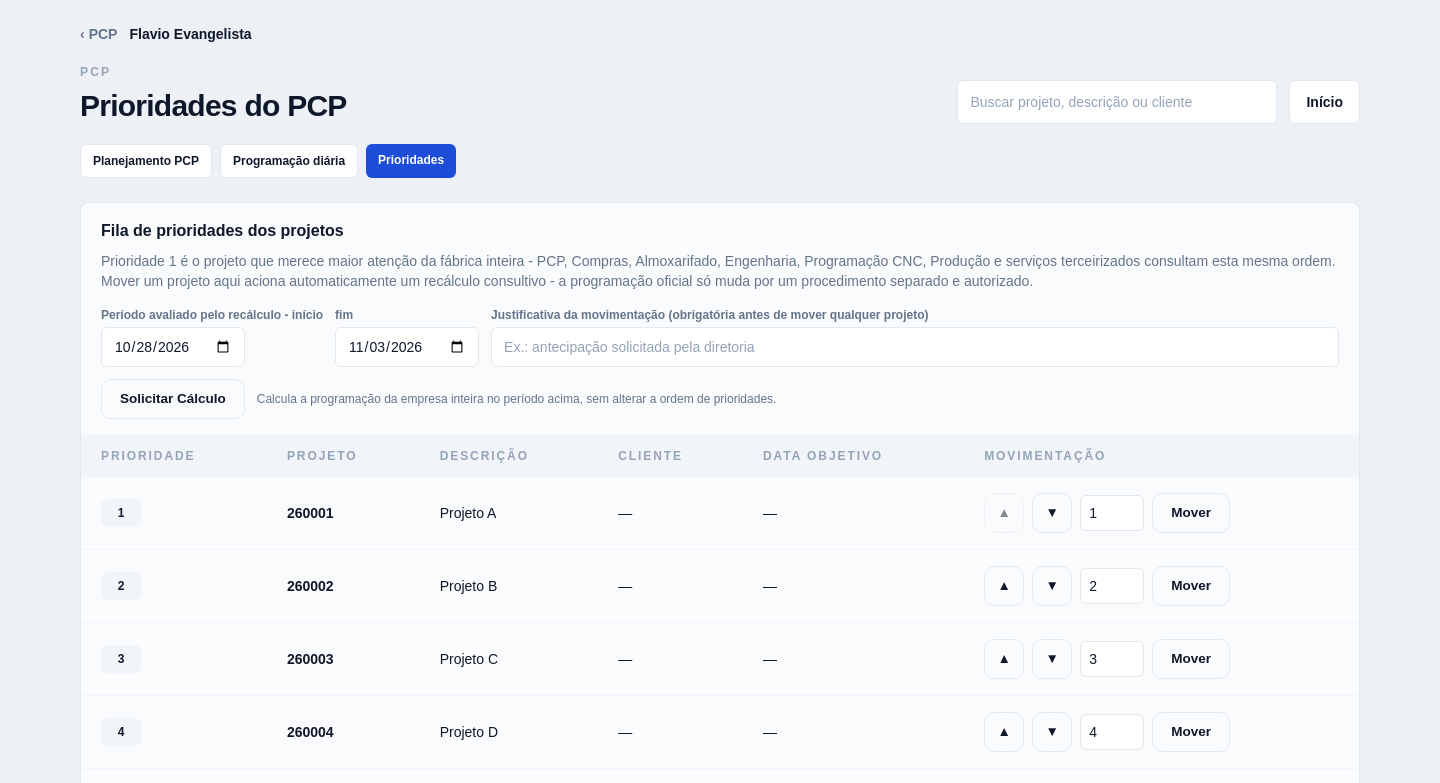
Test: PrioridadesPcpPage - componente › movimento com sucesso mas liberação da reserva falhou: nunca aparenta término normal, avisa bloqueio de novas movimentações
Type "justificativa de teste" into the field labelled "Justificativa da movimentação". click: (915, 347)
box: [491,327,1339,367]
(page scrolled)
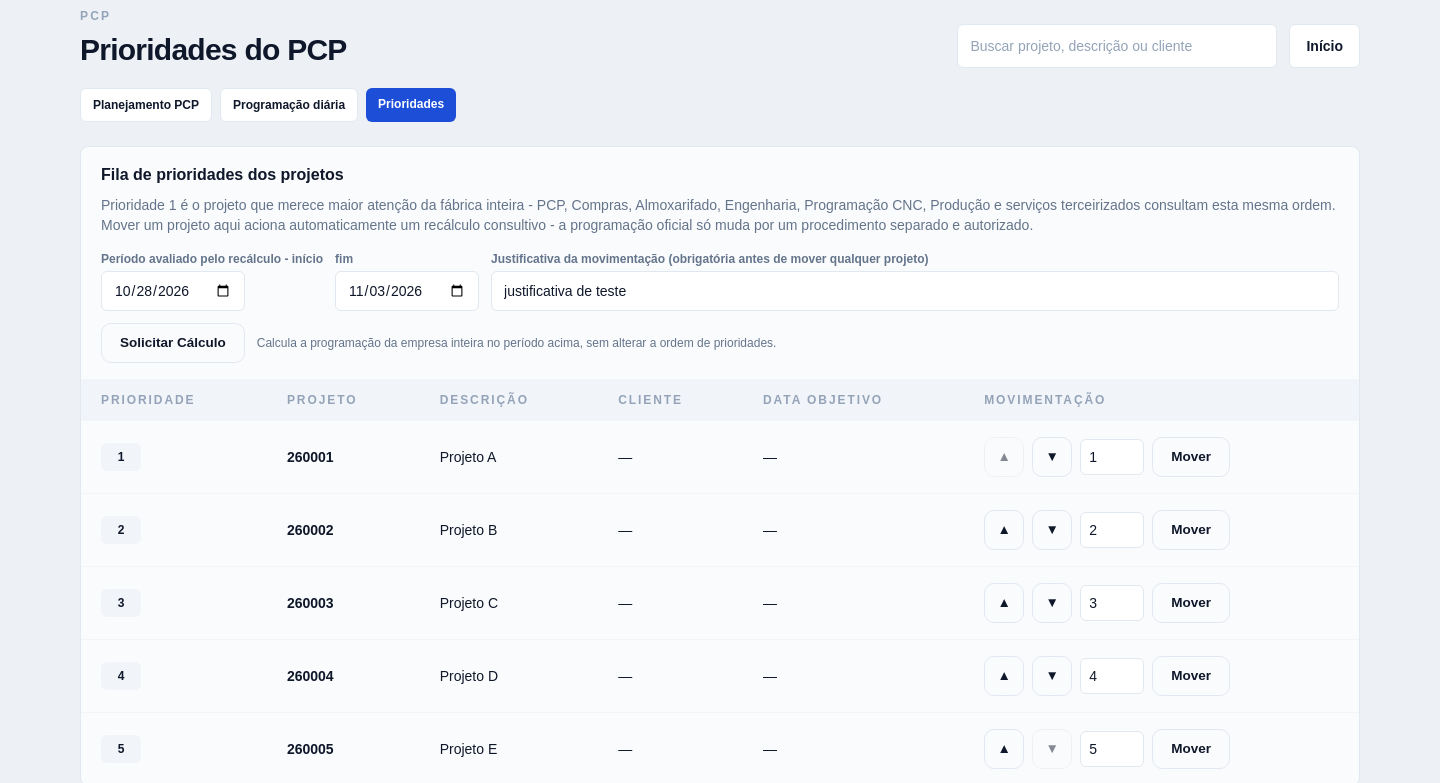
Click the button named "Subir prioridade do projeto 260005". click: click(1004, 749)
box: [984,729,1024,769]
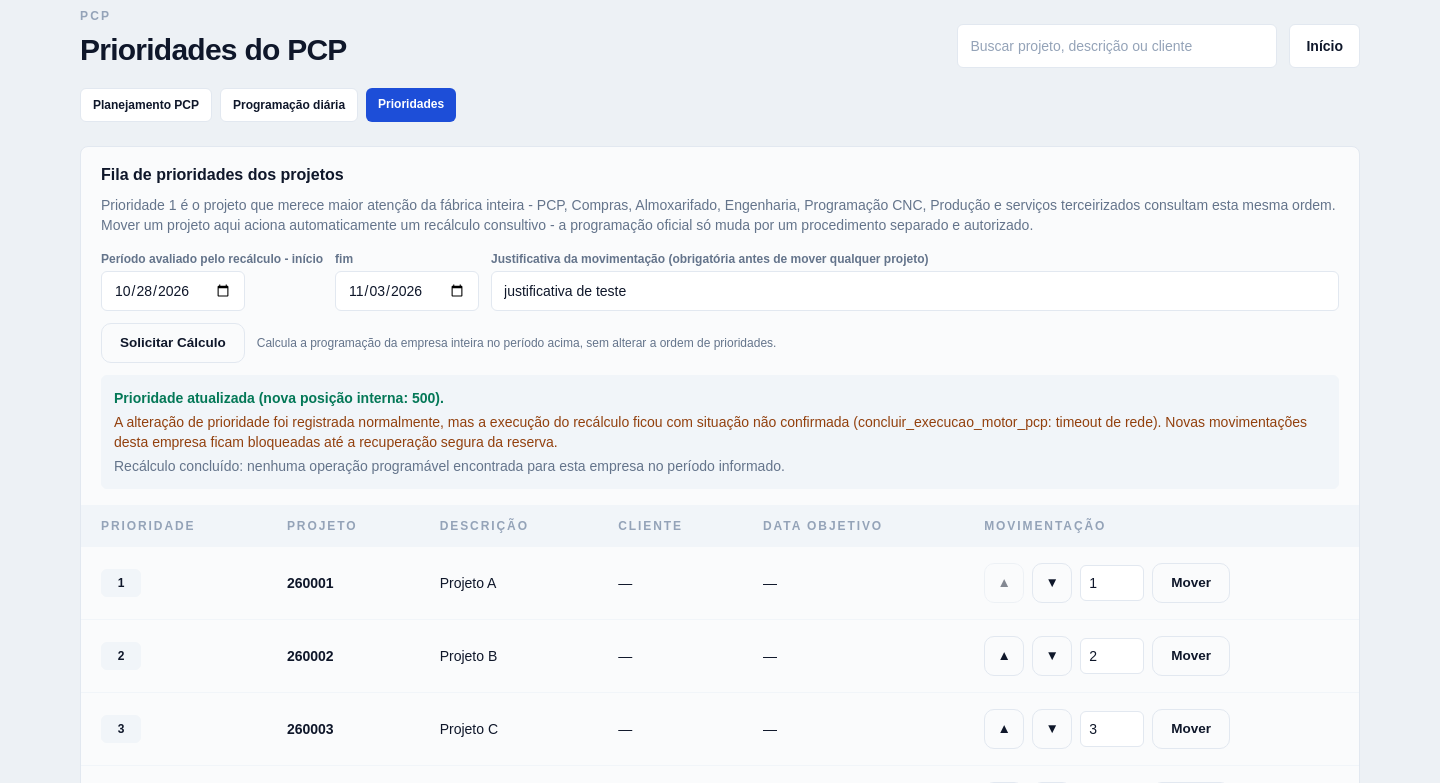
Expected: the text "Prioridade atualizada (nova posição interna: 500)." is shown, [114,390,444,406]
Expected: the text "situação não confirmada" is shown, [114,414,858,430]
Expected: the text "timeout de rede" is shown, [858,414,1153,430]
